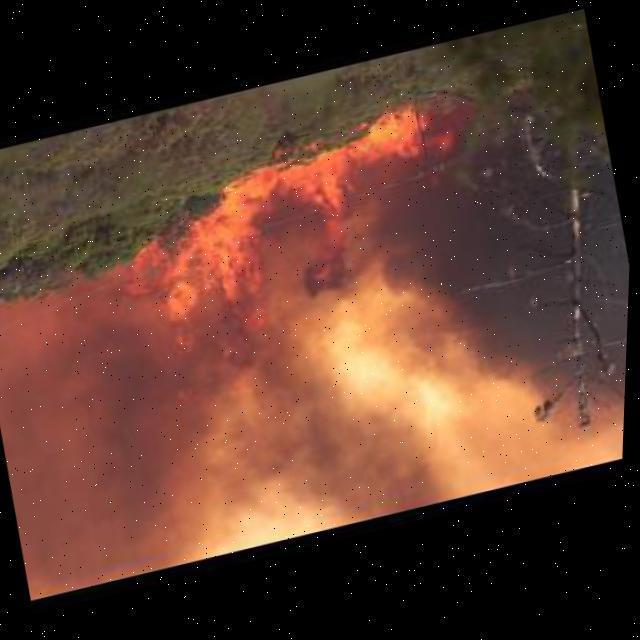fire: (94, 101, 492, 427)
